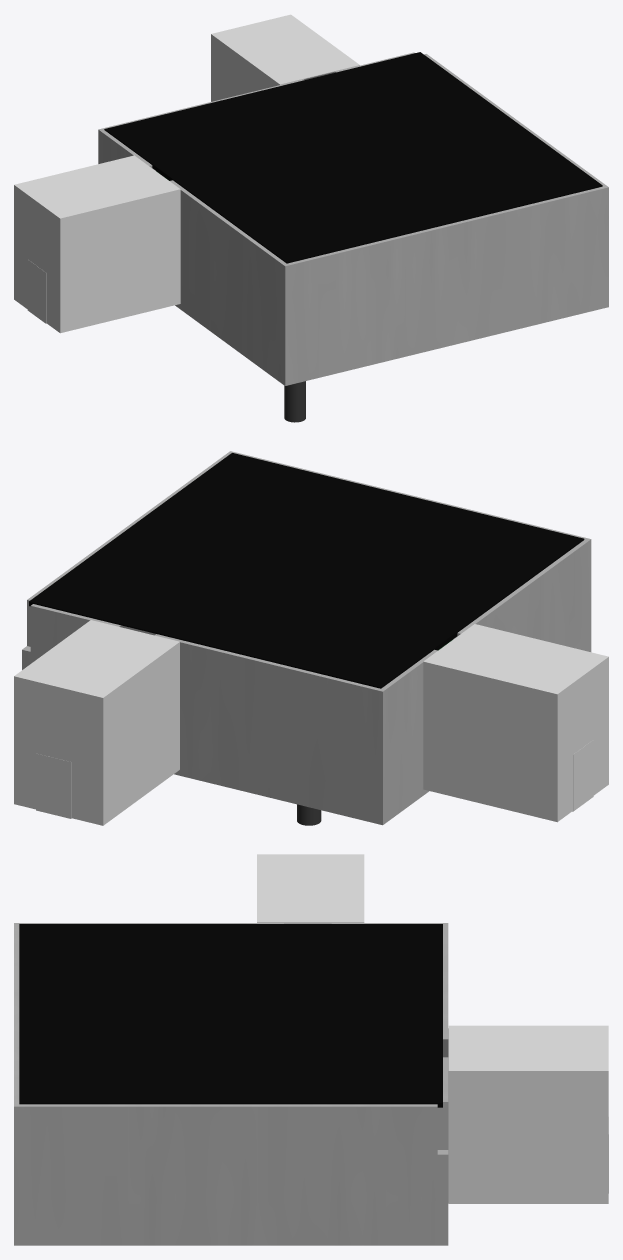
File: nivel2_def_def.fbx
The picture shows the model from 3 angles, top to bottom: view 1: azimuth 30°, elevation 25°; view 2: azimuth 150°, elevation 25°; view 3: azimuth 270°, elevation 25°; orthographic projection. The views are drawn at different scales.
Visible parts, largest first — view 1: Plane.003, Cube.001, Cube, Cube.003, puerta, Cylinder.001; view 2: Plane.003, Cube.001, Cube, Cube.003, puerta.001, puerta; view 3: Plane.003, Cube.001, Cube.003, Cube.
Part boxes in pixels (x1,y1,x2,y2): Plane.003: (104,52,602,263); Cube.001: (98,52,608,385); Cube: (14,155,180,333); Cube.003: (211,14,359,101); puerta: (27,259,46,323); Cylinder.001: (284,381,305,422); Plane.003: (29,453,584,688); Cube.001: (22,451,591,825); Cube: (423,624,608,822); Cube.003: (14,620,179,825); puerta.001: (36,753,71,818); puerta: (572,740,593,811); Plane.003: (19,924,442,1107); Cube.001: (14,923,448,1245); Cube.003: (448,1025,608,1203); Cube: (257,854,364,923).
Size of the model in its own units: 2251 by 815 by 2247.
